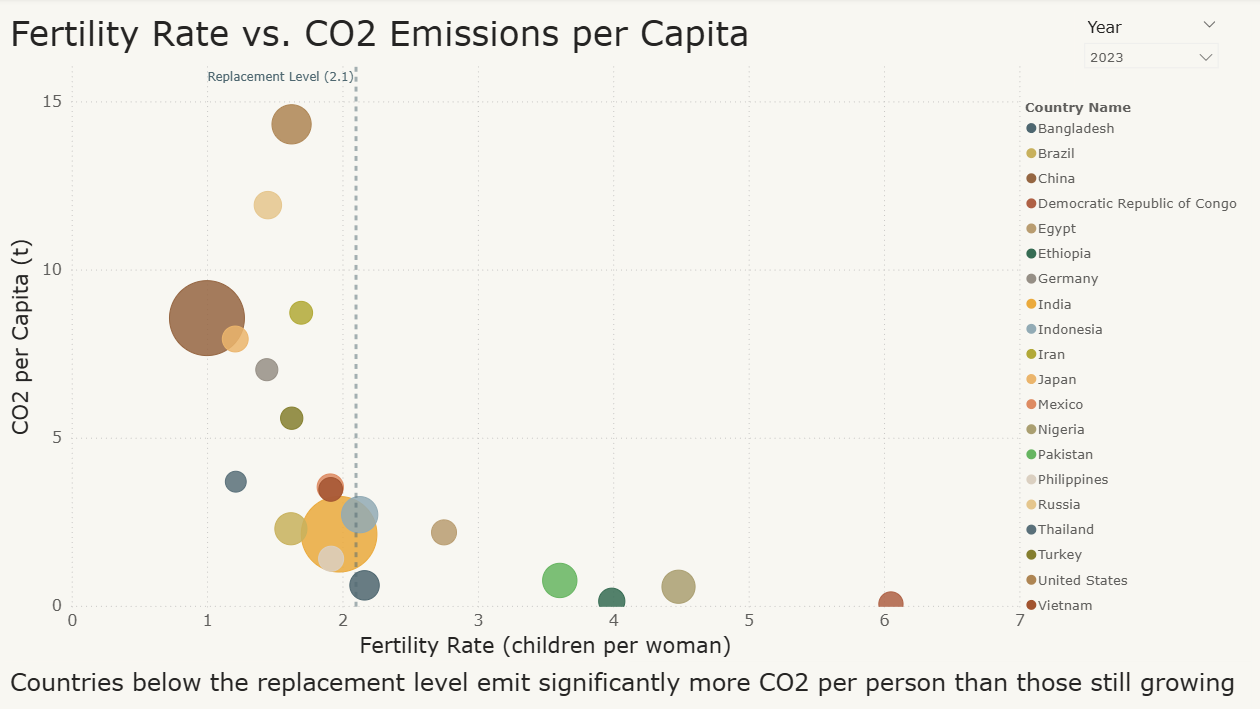

The dashboard page shown, as its layout file describes it:
{"tool":"powerbi","page":{"name":"co2 x fert","canvas":[1280,720],"ordinal":4},"visuals":[{"type":"scatterChart","title":"Fertility Rate vs. CO2 Emissions per Capita","fields":{"X":["demographics.Fertility_Rate"],"Y":["demographics.CO2_per_Capita"],"Size":["select","Sum(demographics.Population)"],"Series":["demographics.Country Name"]},"box":[12.6,15.4,1257.7,656.1],"z":0},{"type":"slicer","fields":{"Values":["global_co2_temp.Year"]},"box":[1091.2,15.4,155.3,76.9],"z":1000},{"type":"textbox","box":[12.6,671.5,1257.7,49],"z":2000}]}

Visuals, with their boxes in screenshot pixels (x1, y1, x2, y2), scaled from the page's 1280x720 canvas onto the 1260x709 screenshot:
"Fertility Rate vs. CO2 Emissions per Capita" scatterChart: [left=12, top=15, right=1250, bottom=661]
slicer - global_co2_temp.Year: [left=1074, top=15, right=1227, bottom=91]
textbox: [left=12, top=661, right=1250, bottom=708]
